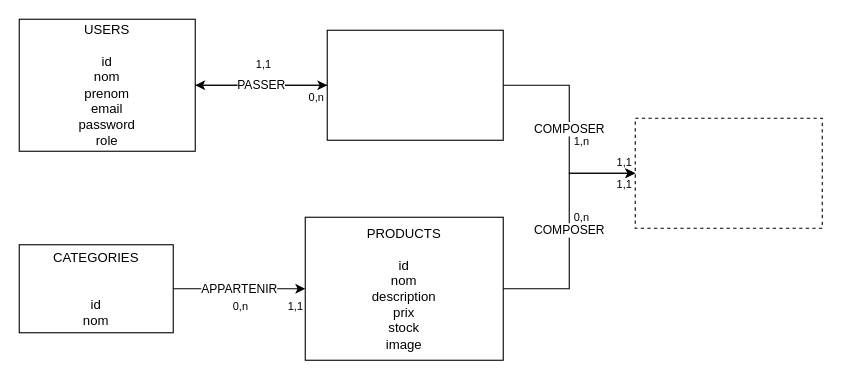
The diagram is 842 pixels wide and 380 high, and some of its shapes have lost their labels. The shapes that lost their labels are listed below. From the top down, each one's centre as x and y in pixels, then its label:
pixel 414 84: ORDERS id date total statut
pixel 728 172: ORDER_ITEMS quantite prix_achat
